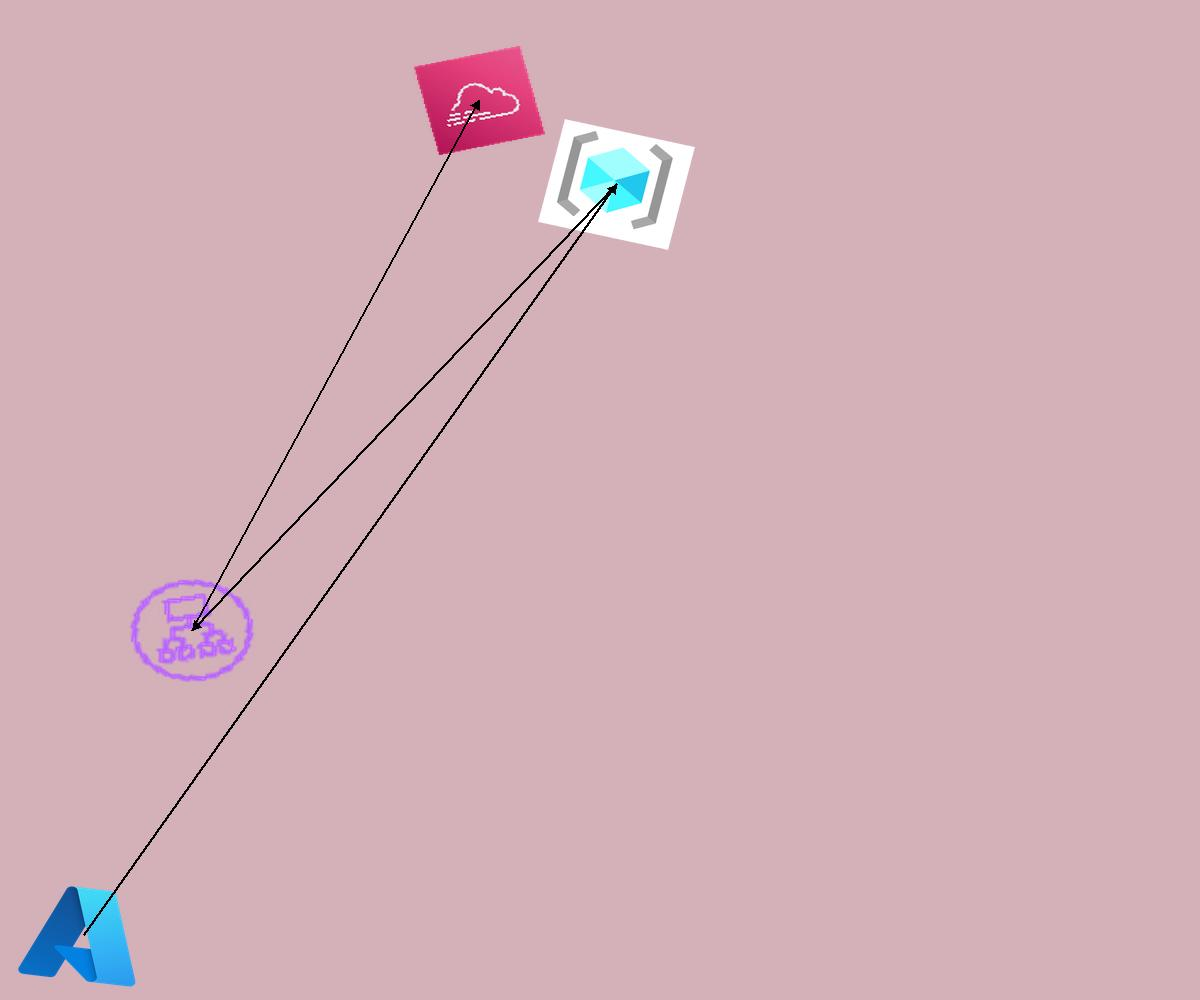AWS-CloudTrail: (413, 45, 546, 156)
AWS-Res_Elastic-Load-Balancing_Application-Load-Balancer: (112, 564, 272, 697)
Azure_resource_group: (538, 119, 695, 250)
Azure_services: (11, 874, 157, 995)
